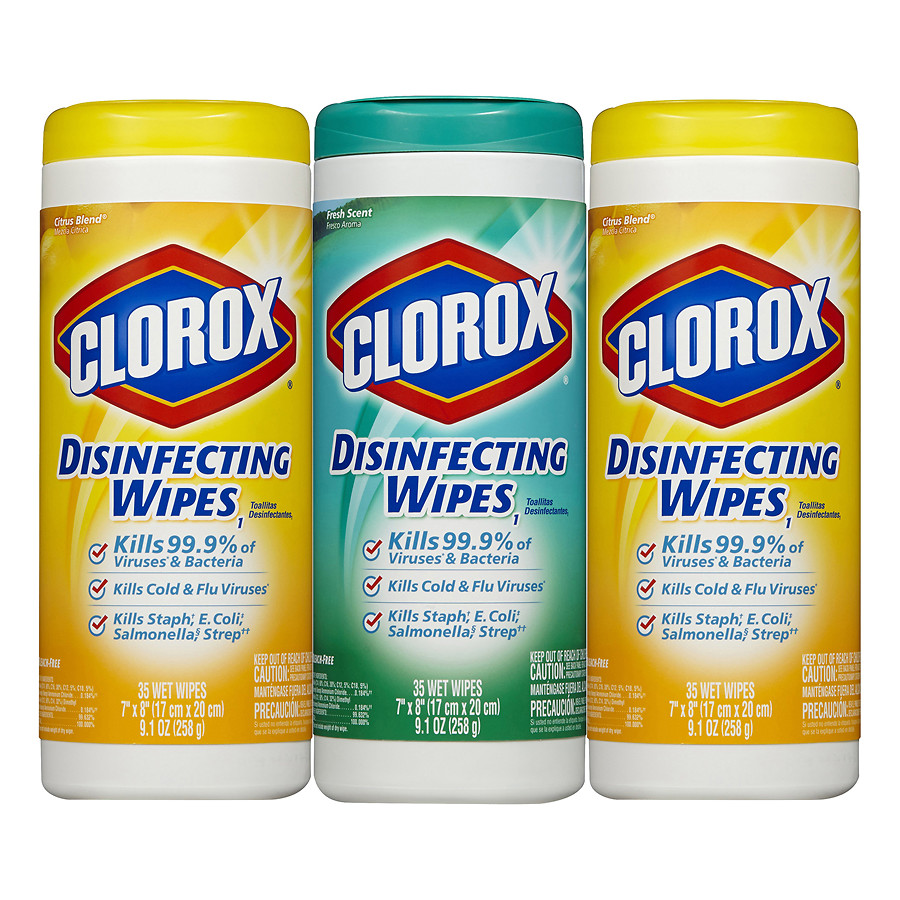Wipes: (27, 90, 314, 811), (312, 94, 589, 806), (593, 98, 862, 805)
